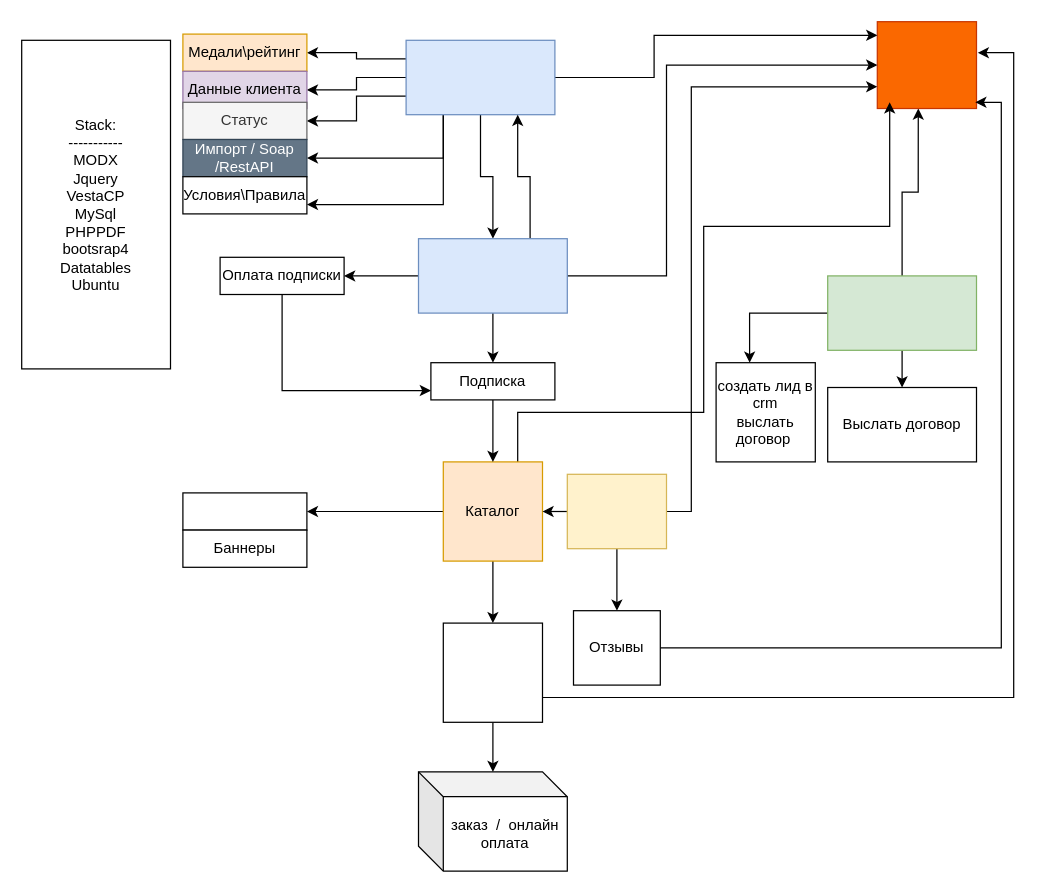
Some shapes in this 1045 by 893 pixel diagram are drawn without their labels. The shapes that lost their labels are listed below. From the top down, each one's box as (x1, y1, x2, y2) in pixels, then its label:
(405, 39, 555, 115): ЛК/профиль "Поставщик"
(876, 20, 976, 108): бдl
(417, 237, 567, 313): ЛК/профиль "Производитель"
(826, 275, 976, 350): регистрация
(182, 492, 307, 530): Фильтры, поиск
(566, 473, 666, 549): карточка товара
(442, 622, 542, 722): корзина
